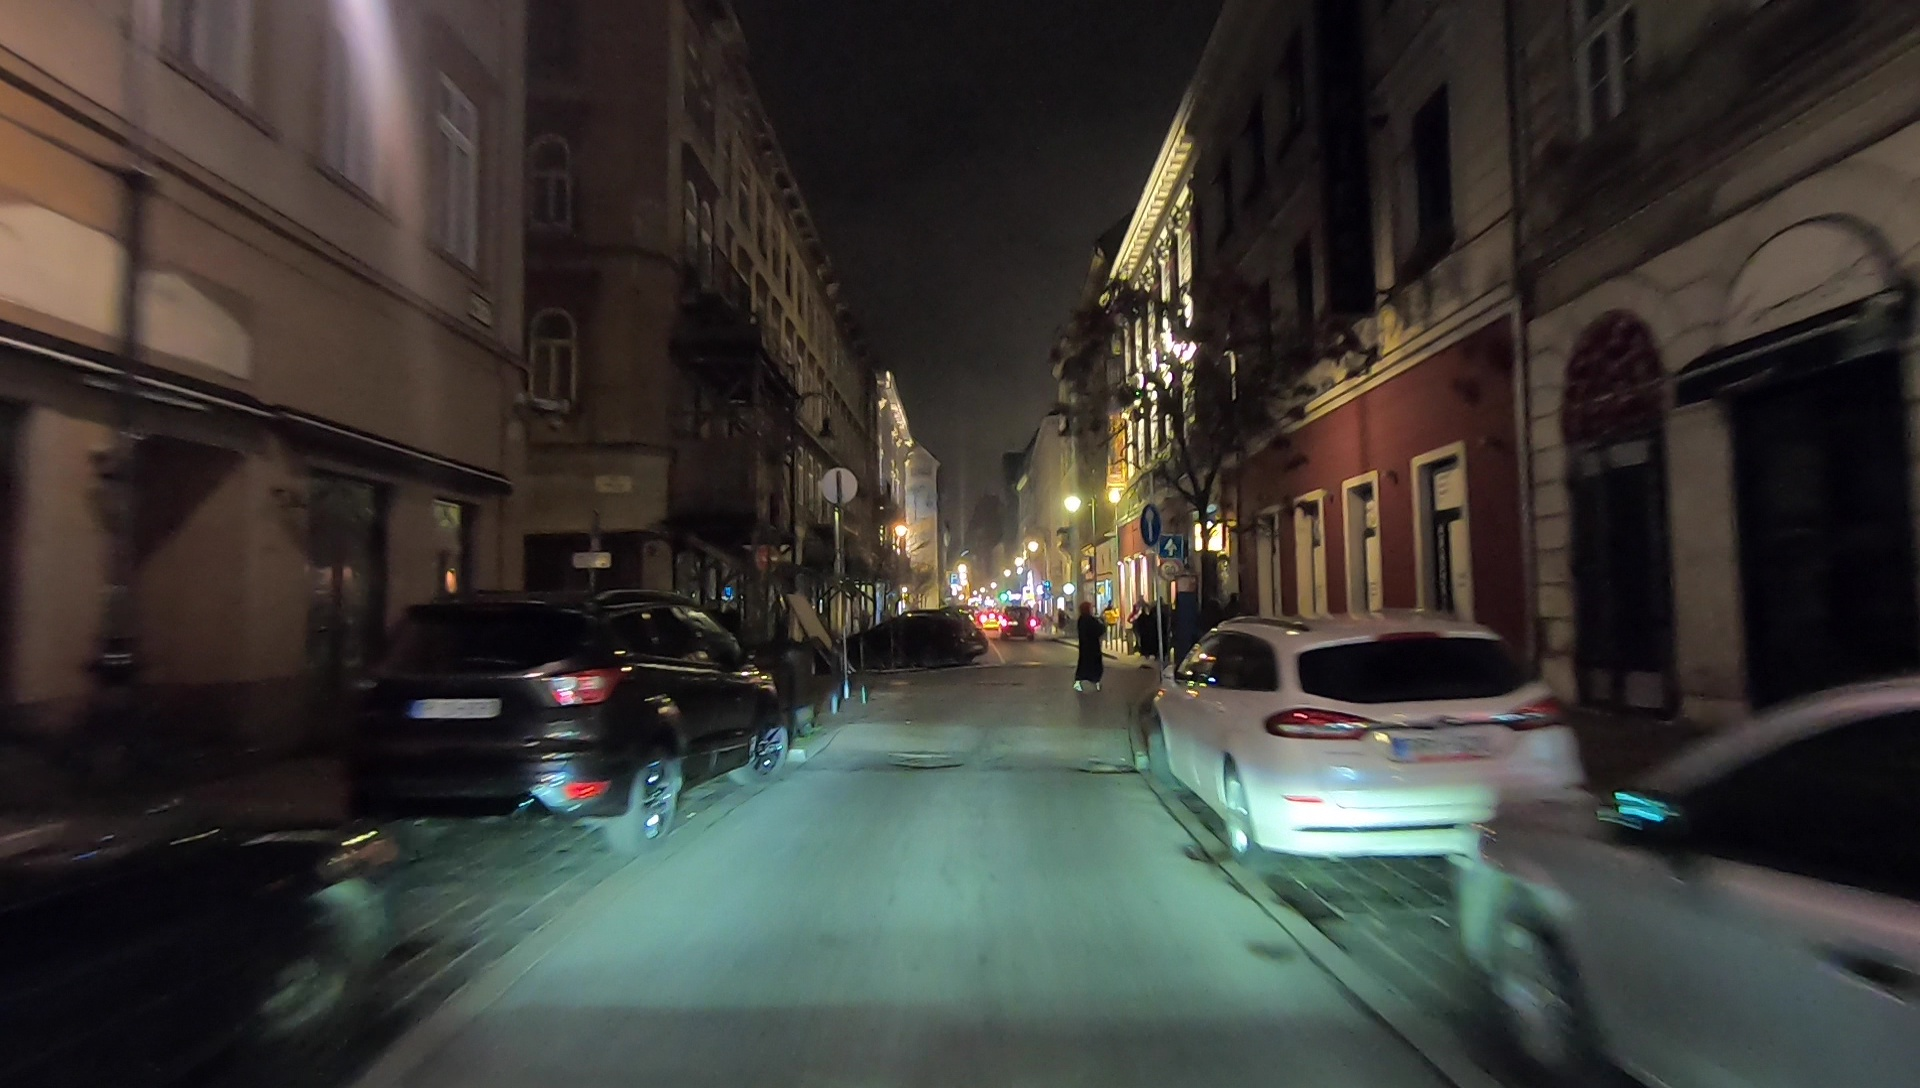person: (1075, 599, 1112, 695)
